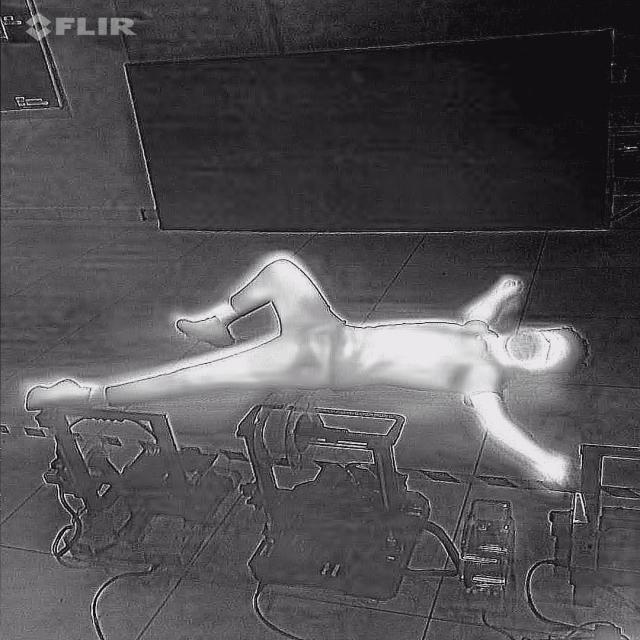Victim: (19, 253, 596, 498)
